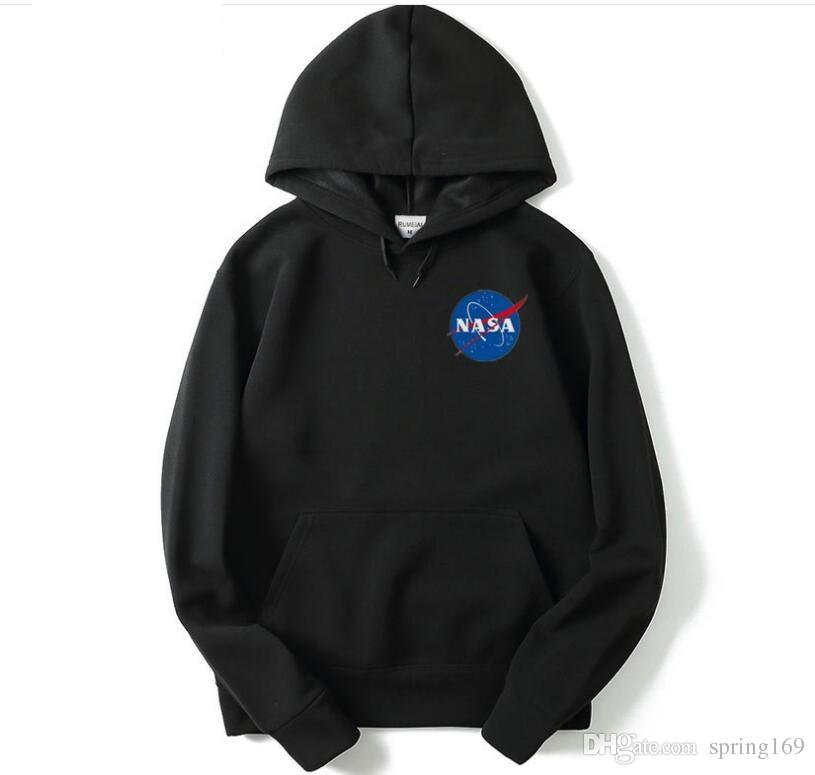NASA: (444, 288, 531, 365)
